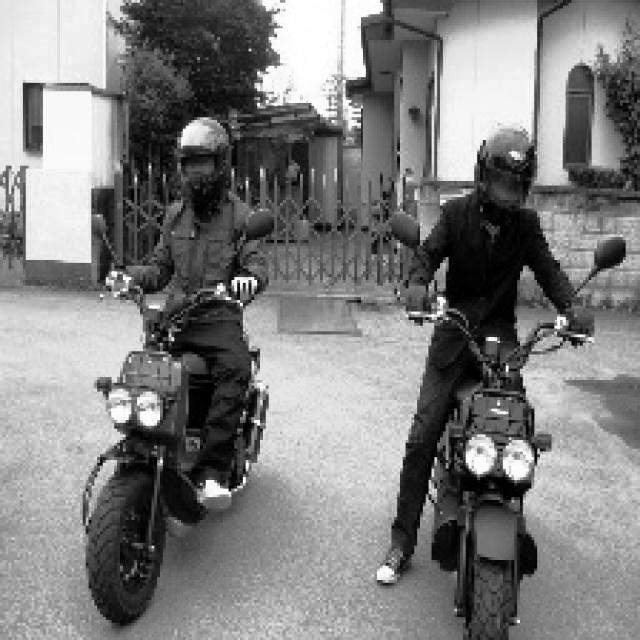Bike: (67, 293, 214, 610), (427, 289, 557, 639)
